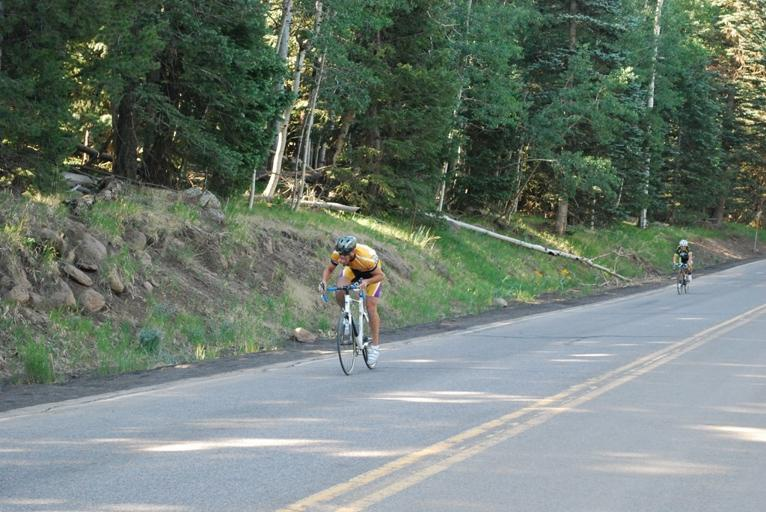non-vehicle: (317, 277, 377, 378), (671, 262, 690, 295)
